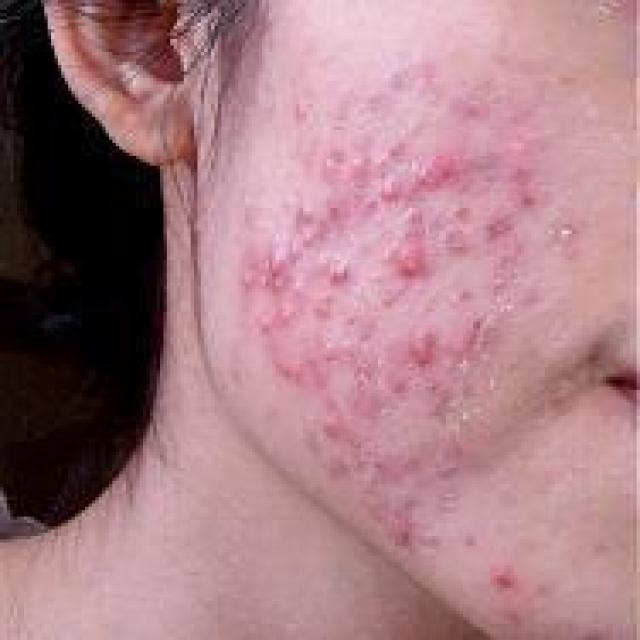Acne: (238, 216, 374, 379), (322, 136, 554, 198), (382, 58, 501, 117), (319, 406, 392, 487), (410, 382, 468, 479), (460, 299, 524, 377), (462, 210, 524, 290), (390, 204, 441, 296), (368, 497, 436, 552), (531, 202, 596, 250), (383, 326, 451, 368), (488, 568, 533, 610), (276, 95, 314, 128), (578, 624, 612, 640)
